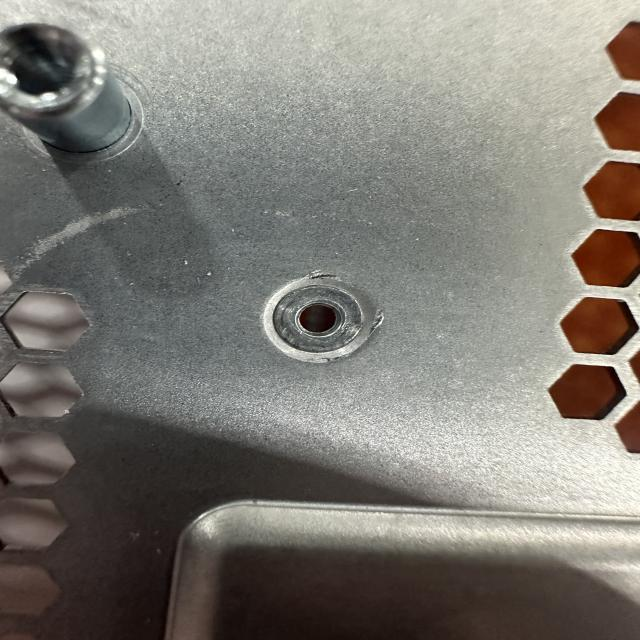Missing screw: (252, 269, 388, 368)
